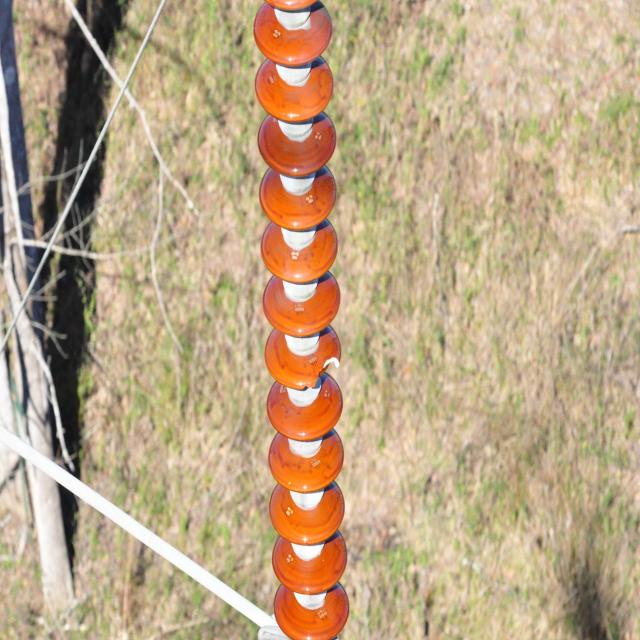broken: (297, 353, 344, 391)
insulator: (251, 1, 351, 635)
